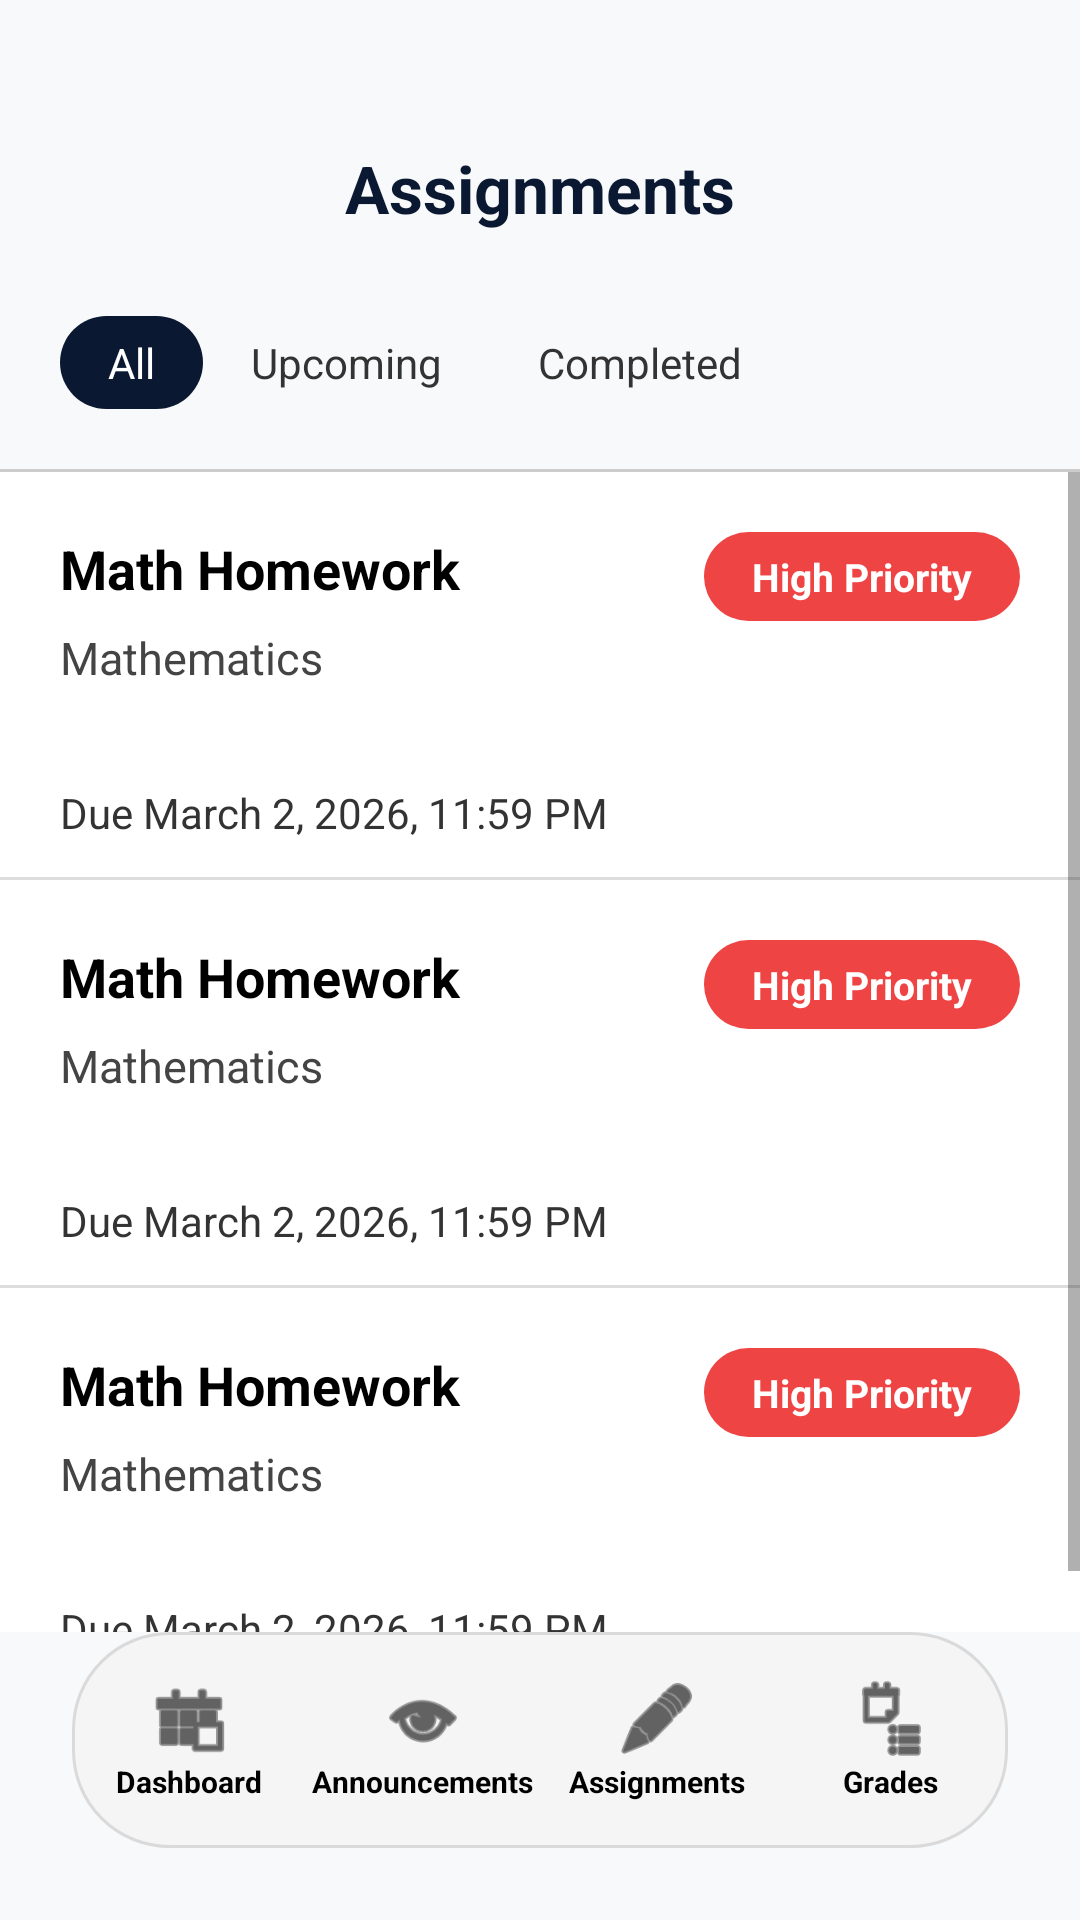

Where to tap for icons on this 1080 x 1920 app screen, as [x,y]:
agenda: [891,1718]
edit: [656,1718]
today: [189,1720]
view: [423,1721]
